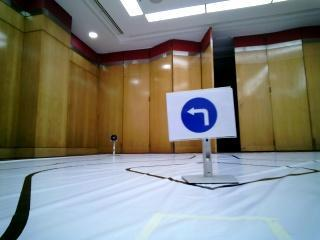left: (169, 94, 228, 134)
